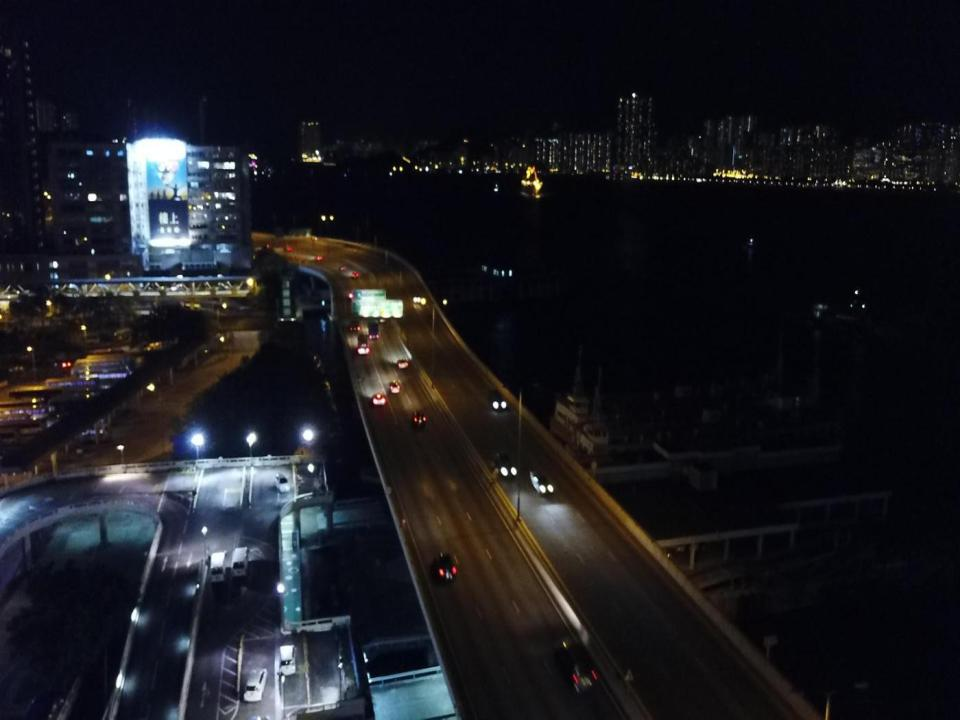bus: (48, 394, 111, 426), (71, 357, 129, 385), (45, 376, 100, 404), (8, 387, 65, 412), (0, 418, 47, 446), (0, 397, 43, 423)
car: (244, 669, 268, 702), (278, 644, 297, 676), (530, 471, 553, 496), (495, 451, 517, 477), (437, 553, 456, 580), (488, 388, 506, 412), (372, 393, 386, 406), (390, 381, 399, 393), (398, 359, 408, 369), (348, 290, 360, 298), (350, 320, 359, 330), (412, 294, 420, 302), (351, 271, 358, 278), (262, 244, 271, 249), (285, 246, 292, 251), (339, 265, 346, 270), (308, 235, 316, 239), (316, 256, 322, 260)
truck: (357, 334, 368, 354), (368, 321, 378, 340)
van: (556, 638, 597, 692), (232, 546, 250, 578), (210, 551, 227, 583), (274, 473, 290, 492), (411, 410, 426, 427)
